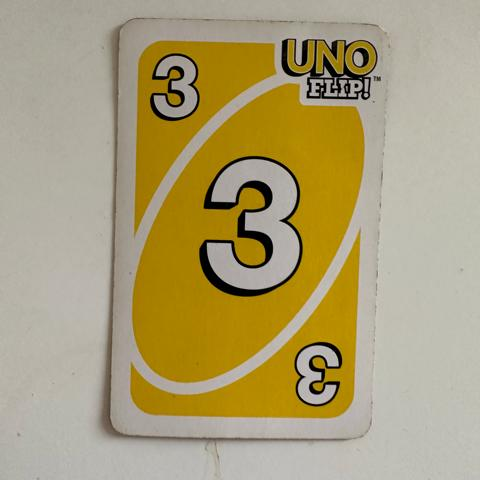lyellow-3: (134, 32, 217, 136)
